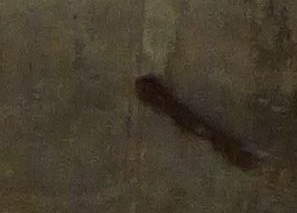Exposed reinforcement: (133, 75, 256, 171)
